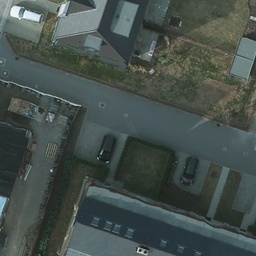car: (10, 3, 44, 23), (180, 153, 198, 187), (97, 134, 116, 163)
